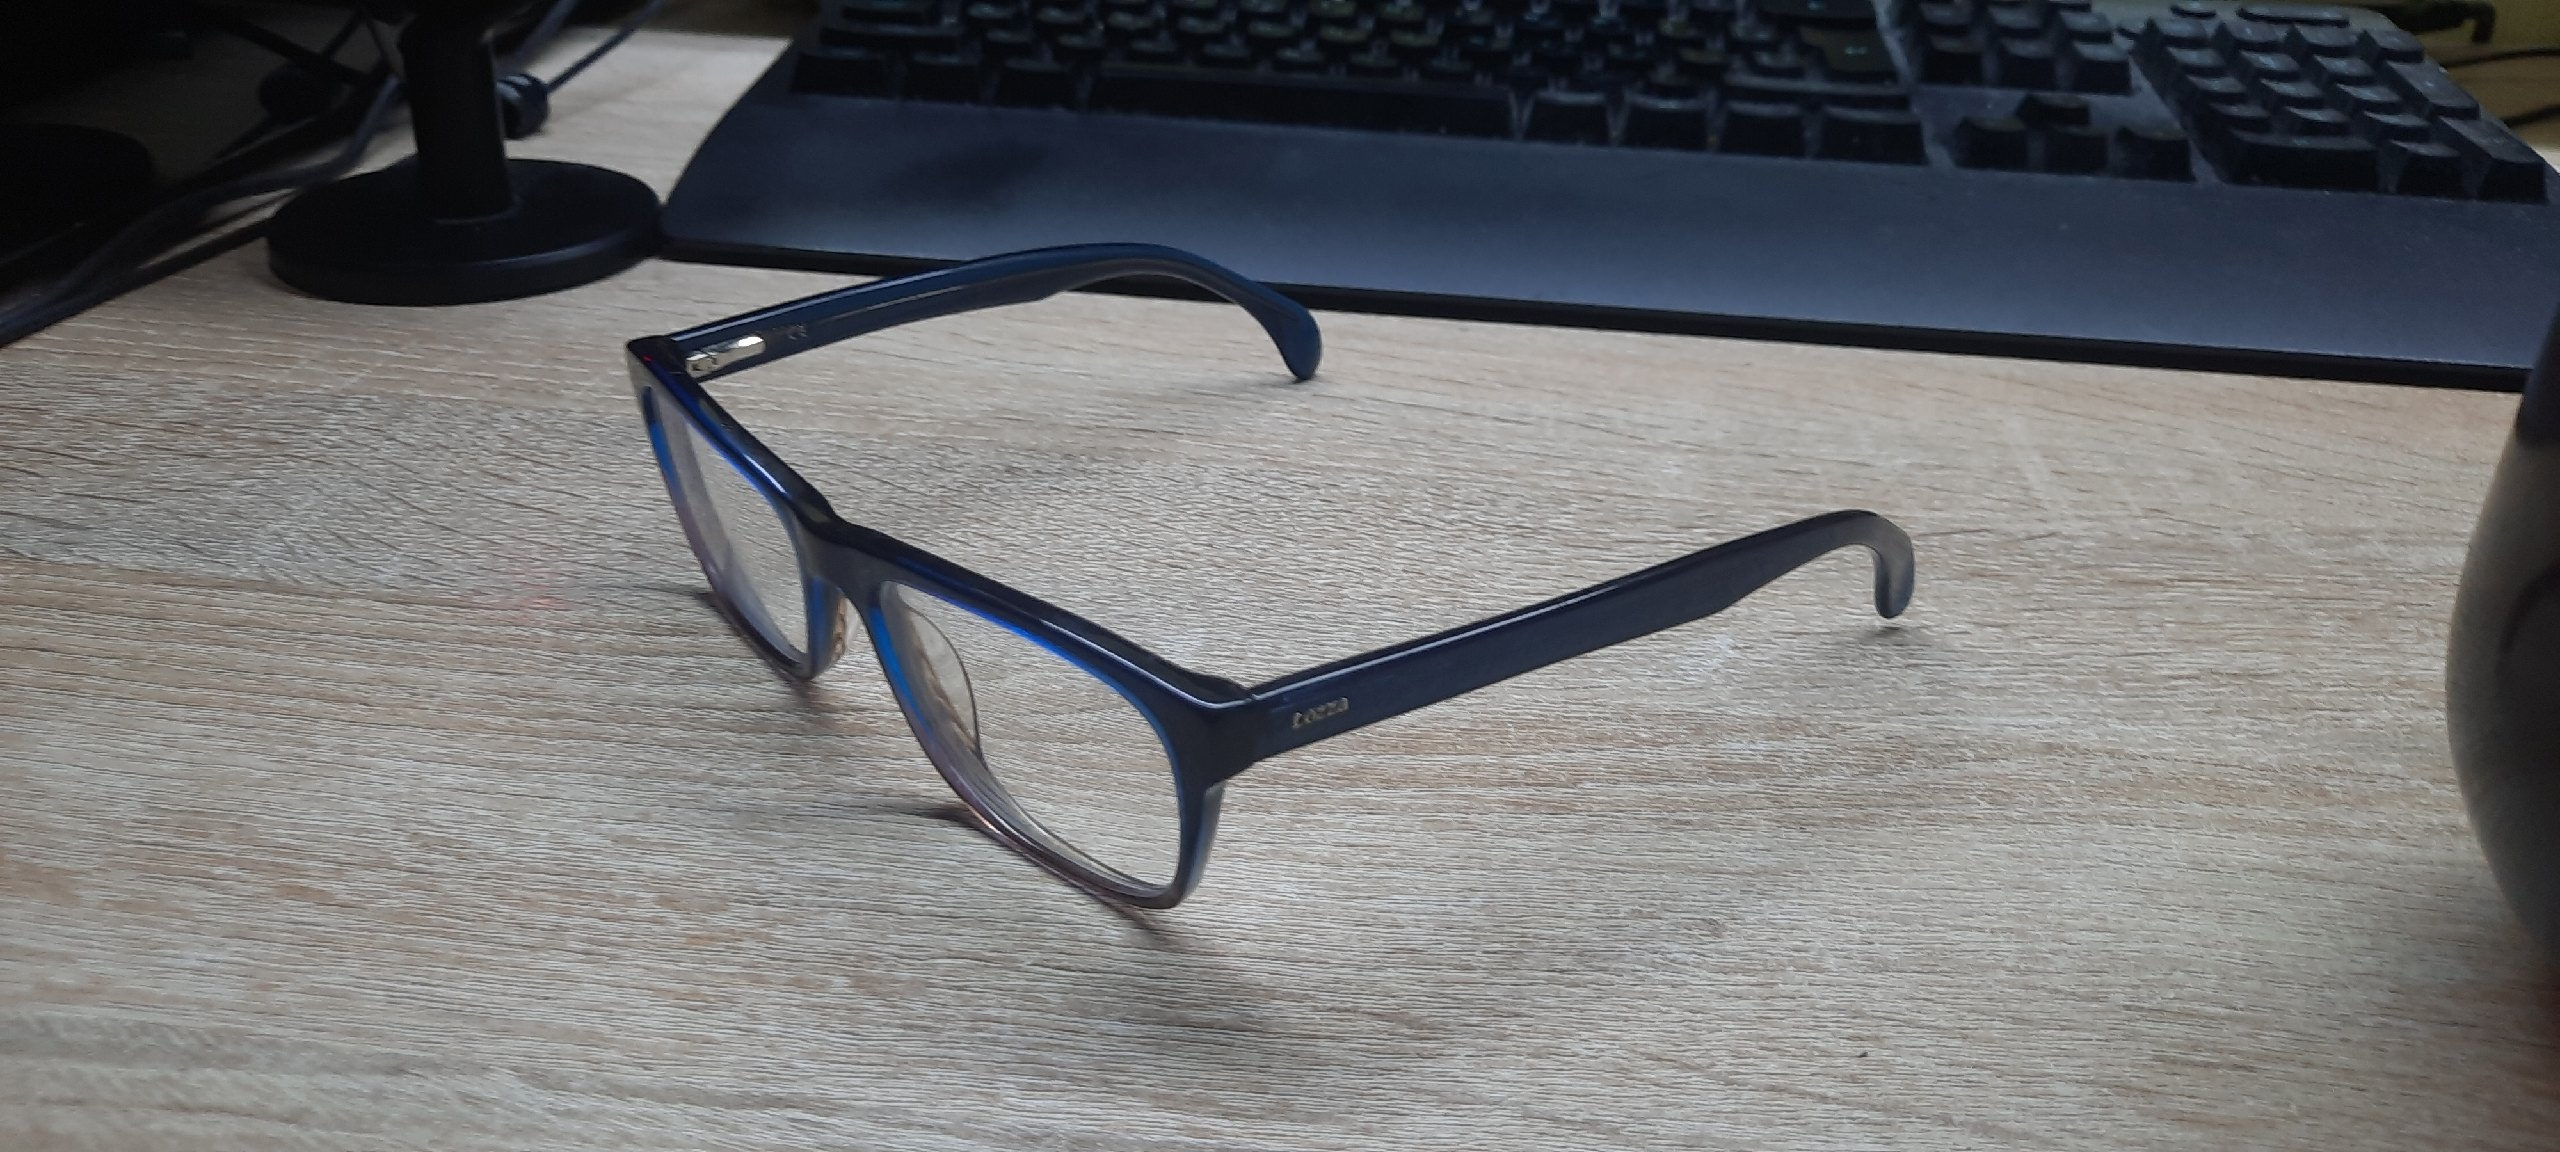glasses: (629, 245, 1912, 909)
